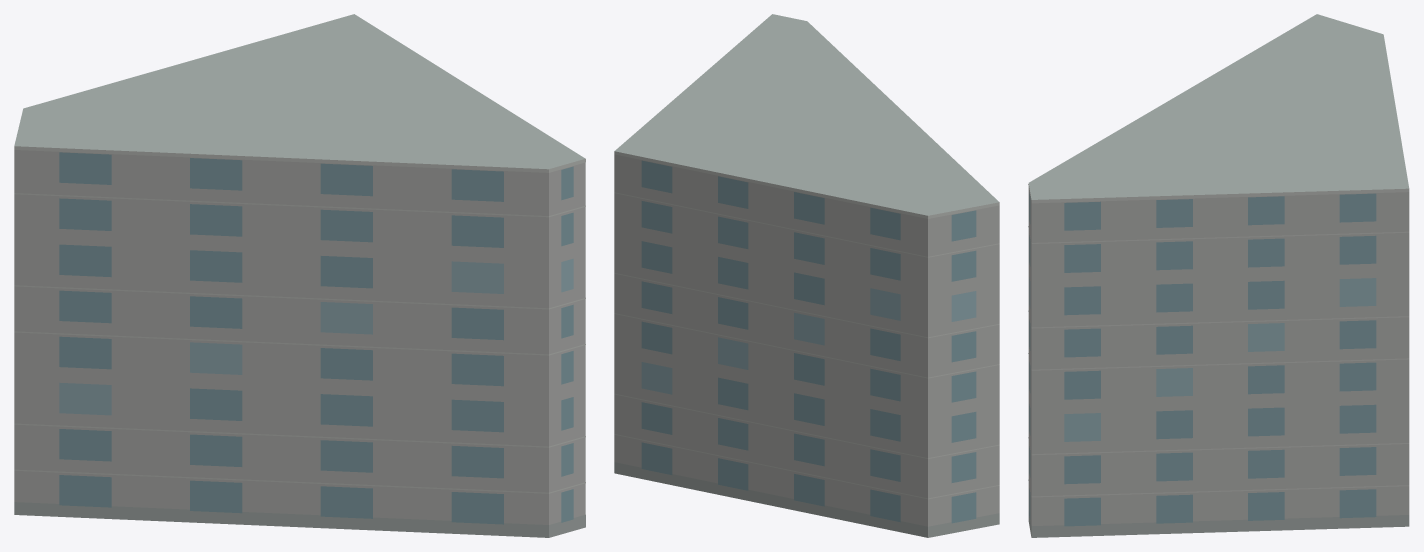
Rendered from residential-53a08f5a-bec5-403d-987e-8b11183a4228.glb.
3 views of the same model, side by side, from view 1: azimuth 30°, elevation 25°; view 2: azimuth 150°, elevation 25°; view 3: azimuth 270°, elevation 25° (orthographic). The views are drawn at different scales.
Visible parts, largest first — view 1: residential-53a08f5a-bec5-403d-987e-8b11183a4228.tmp; view 2: residential-53a08f5a-bec5-403d-987e-8b11183a4228.tmp; view 3: residential-53a08f5a-bec5-403d-987e-8b11183a4228.tmp.
Boxes of the visible parts, <box> form: residential-53a08f5a-bec5-403d-987e-8b11183a4228.tmp: <box>14,14,585,537</box>; residential-53a08f5a-bec5-403d-987e-8b11183a4228.tmp: <box>614,14,999,537</box>; residential-53a08f5a-bec5-403d-987e-8b11183a4228.tmp: <box>1028,14,1409,537</box>.
Size of the model in its own units: 28.82 by 24.4 by 24.94.
